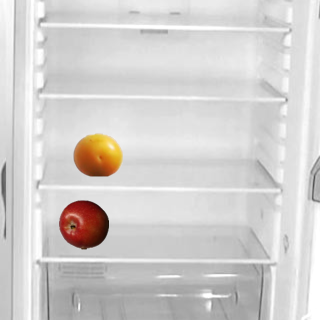Apple Braeburn: (58, 199, 108, 249)
Cherry Wax Yellow: (72, 129, 122, 179)
